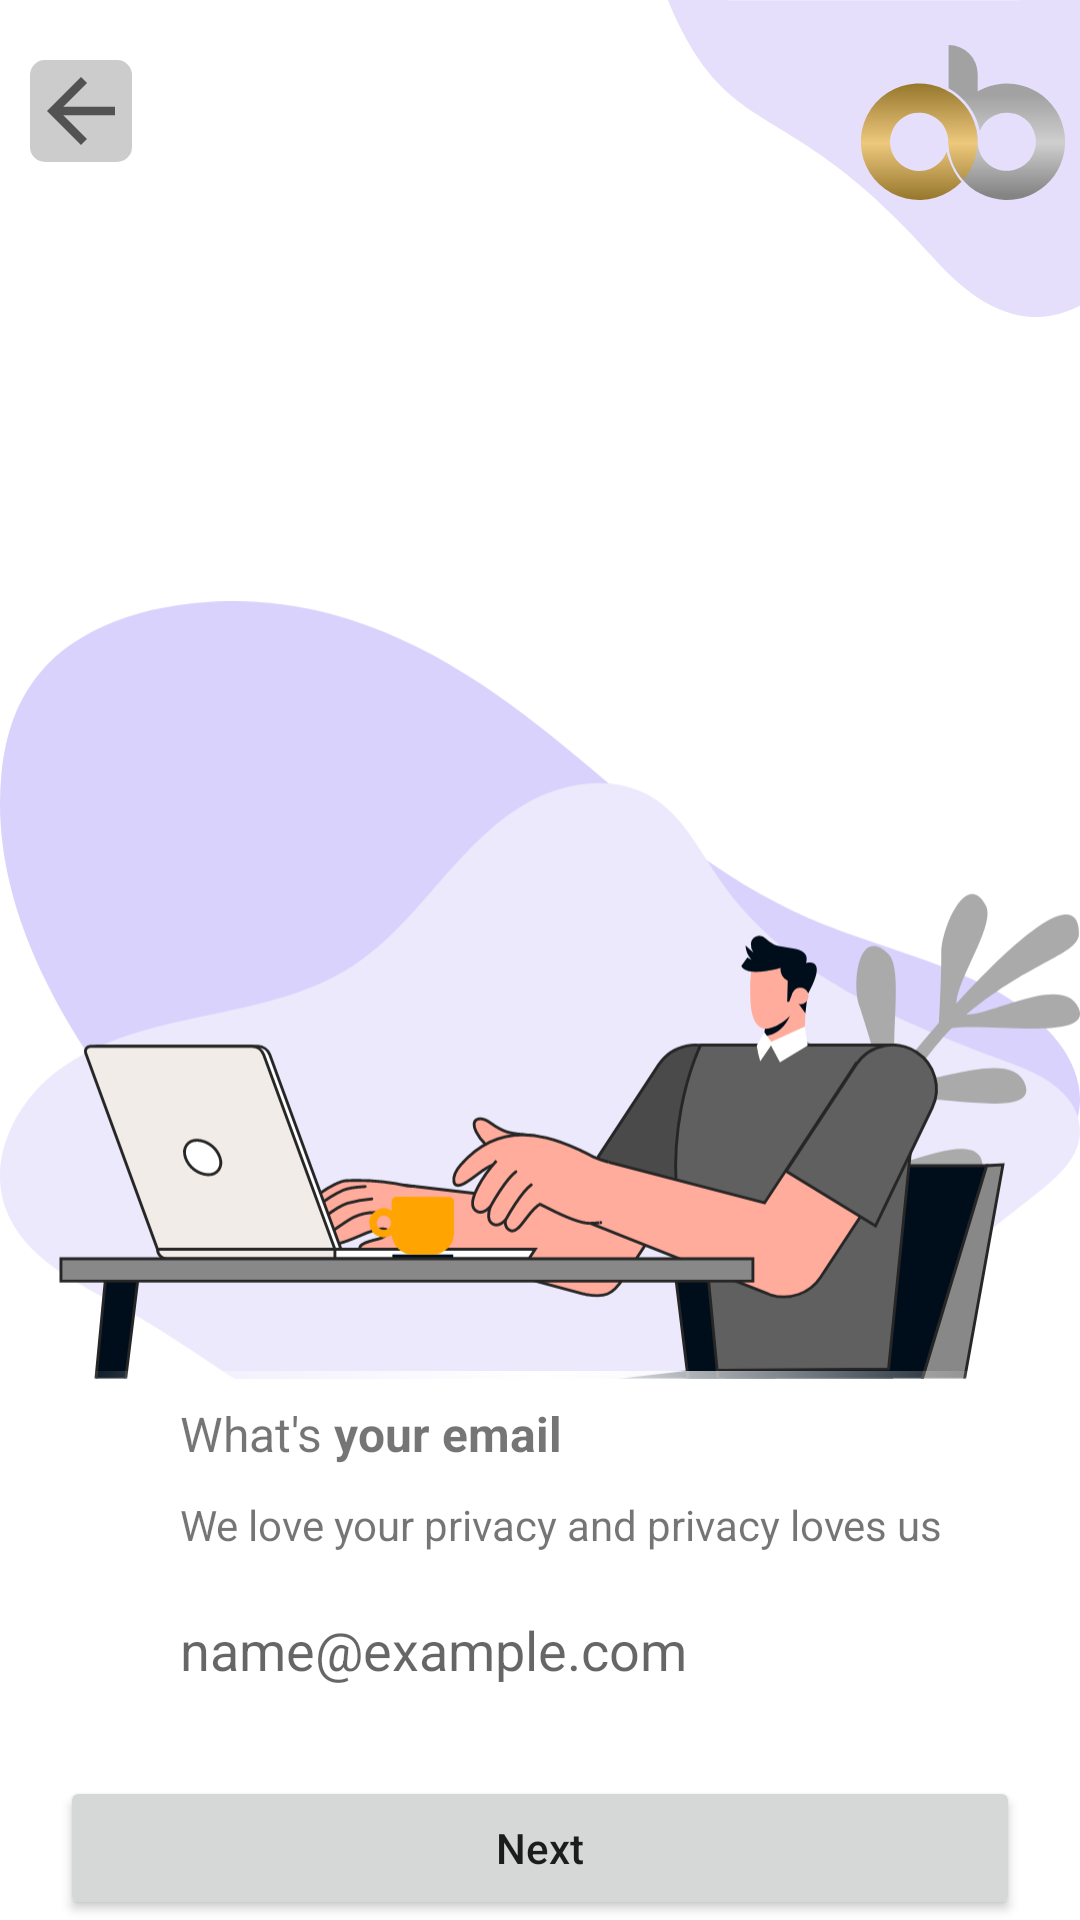

Icon click points for this 1080×1920 phone screenshot, format (x,y):
back: (81,111)
